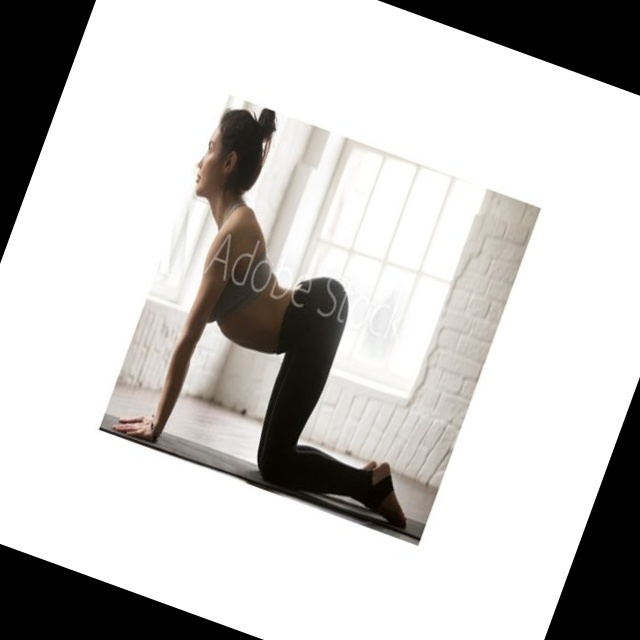Cow_Pose: (111, 110, 410, 536)
